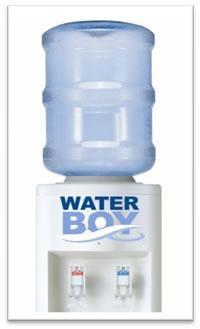Dispenser: (33, 20, 161, 311)
